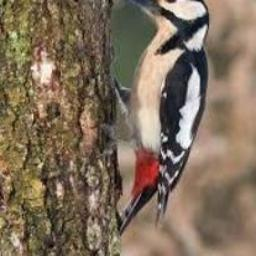Woodpecker: (93, 0, 209, 234)
